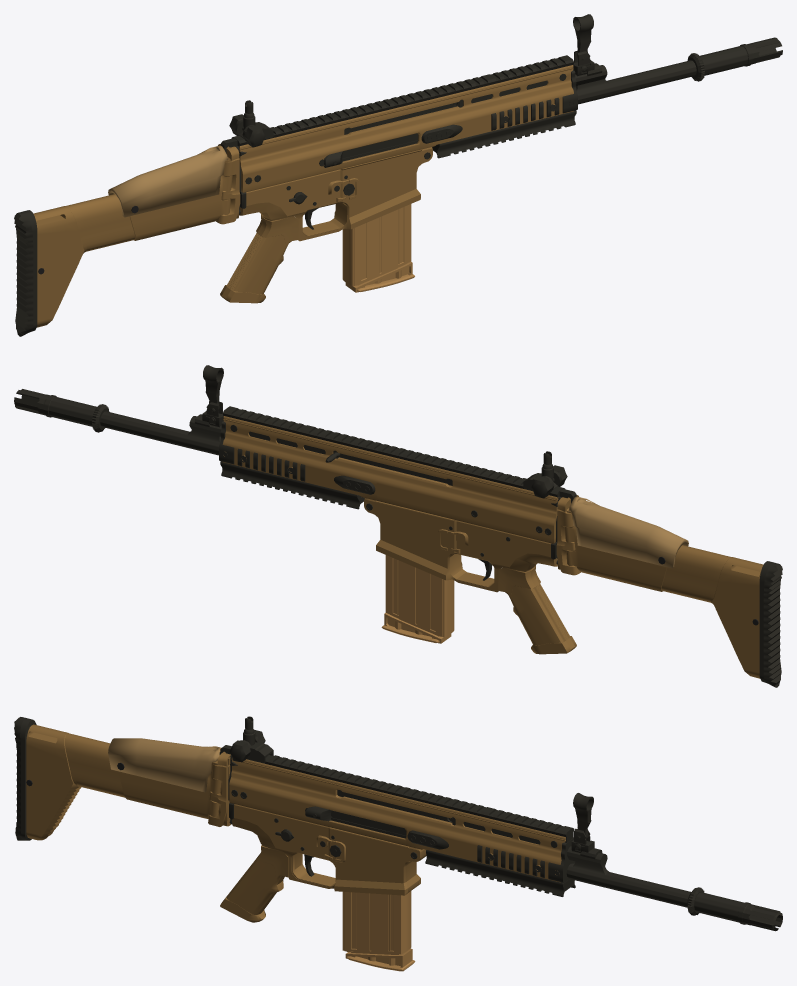
Rendered from Scar-H.glb.
3 renders of one model, top to bottom at view 1: azimuth 30°, elevation 25°; view 2: azimuth 150°, elevation 25°; view 3: azimuth 330°, elevation 25°, orthographic.
Visible parts, largest first — view 1: Scar-H_0, Scar-H_1, Scar-H(dont_know_its_english_name,_lol)_0, Magazin_0, Scar-H(2)_0, Scar-H(dont_know_its_english_name,_lol/3)_0, Scar-H(dont_know_its_english_name,_lol/2)_0, Scar-H(dont_know_its_english_name,_lol)_1, bulletfence_0, Ironsight_0, Scar-H(Iron_Sight(front)_0, reloadfence_0; view 2: Scar-H_0, Scar-H_1, Scar-H(dont_know_its_english_name,_lol)_0, Magazin_0, Scar-H(2)_0, Scar-H(dont_know_its_english_name,_lol/3)_0, Scar-H(dont_know_its_english_name,_lol/2)_0, Scar-H(dont_know_its_english_name,_lol)_1, Ironsight_0, reloadfence_0, Scar-H(Iron_Sight(front)_0; view 3: Scar-H_0, Scar-H_1, Scar-H(dont_know_its_english_name,_lol)_0, Scar-H(2)_0, Magazin_0, Scar-H(dont_know_its_english_name,_lol/3)_0, Scar-H(dont_know_its_english_name,_lol/2)_0, Scar-H(dont_know_its_english_name,_lol)_1, Ironsight_0, bulletfence_0, Scar-H(Iron_Sight(front)_0, reloadfence_0.
Boxes of the visible parts, box(x1,y1,x2,y2) form: Scar-H_0: box(216, 65, 573, 303); Scar-H_1: box(231, 55, 577, 195); Scar-H(dont_know_its_english_name,_lol)_0: box(33, 194, 134, 327); Magazin_0: box(342, 204, 414, 292); Scar-H(2)_0: box(573, 37, 782, 104); Scar-H(dont_know_its_english_name,_lol/3)_0: box(108, 145, 228, 217); Scar-H(dont_know_its_english_name,_lol/2)_0: box(129, 157, 232, 240); Scar-H(dont_know_its_english_name,_lol)_1: box(14, 210, 37, 336); bulletfence_0: box(342, 133, 418, 161); Ironsight_0: box(229, 114, 273, 147); Scar-H(Iron_Sight(front)_0: box(573, 14, 593, 58); reloadfence_0: box(344, 99, 463, 134); Scar-H_0: box(222, 416, 580, 654); Scar-H_1: box(219, 406, 564, 541); Scar-H(dont_know_its_english_name,_lol)_0: box(662, 545, 763, 678); Magazin_0: box(381, 555, 454, 643); Scar-H(2)_0: box(14, 389, 223, 455); Scar-H(dont_know_its_english_name,_lol/3)_0: box(568, 496, 688, 568); Scar-H(dont_know_its_english_name,_lol/2)_0: box(564, 508, 667, 591); Scar-H(dont_know_its_english_name,_lol)_1: box(759, 561, 782, 687); Ironsight_0: box(523, 465, 567, 498); reloadfence_0: box(325, 450, 452, 485); Scar-H(Iron_Sight(front)_0: box(203, 365, 223, 409); Scar-H_0: box(208, 751, 565, 922); Scar-H_1: box(247, 755, 575, 896); Scar-H(dont_know_its_english_name,_lol)_0: box(26, 724, 125, 840); Scar-H(2)_0: box(566, 828, 782, 931); Magazin_0: box(342, 891, 415, 971); Scar-H(dont_know_its_english_name,_lol/3)_0: box(108, 738, 221, 792); Scar-H(dont_know_its_english_name,_lol/2)_0: box(118, 760, 221, 818); Scar-H(dont_know_its_english_name,_lol)_1: box(14, 717, 36, 840); Ironsight_0: box(229, 729, 273, 763); bulletfence_0: box(331, 810, 406, 838); Scar-H(Iron_Sight(front)_0: box(573, 793, 593, 840); reloadfence_0: box(337, 789, 455, 825).
Size of the model in its own units: 9.78 by 2.67 by 0.5266.
